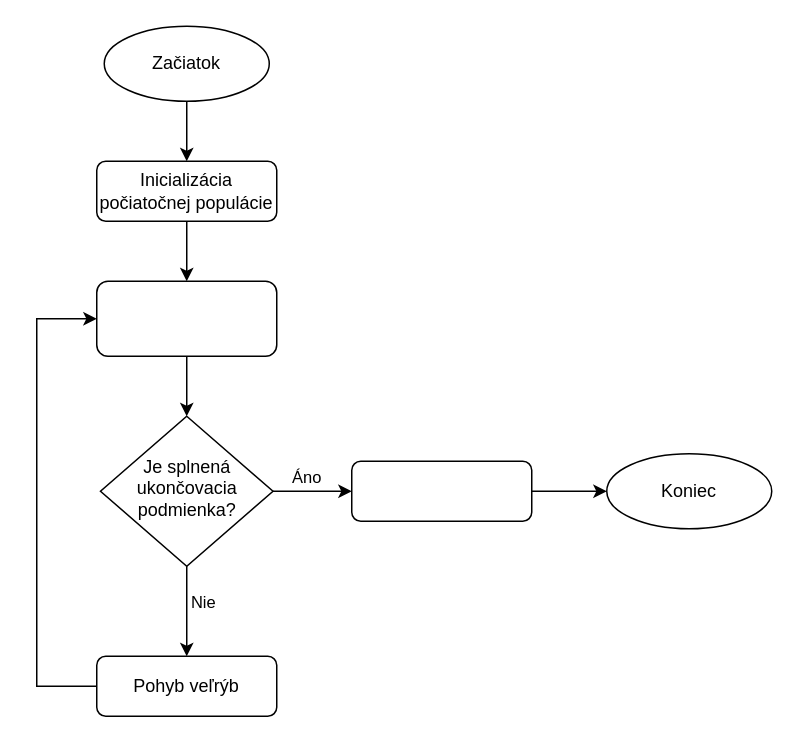
Image size: 798x743. Some labels were removed from this diagram. Each missing label, with the box of its shape:
Ohodnotenie jedincov pomocou fitness funkcie: (95, 280, 277, 356)
Vyhodnotenie výsledkov: (350, 460, 532, 521)
